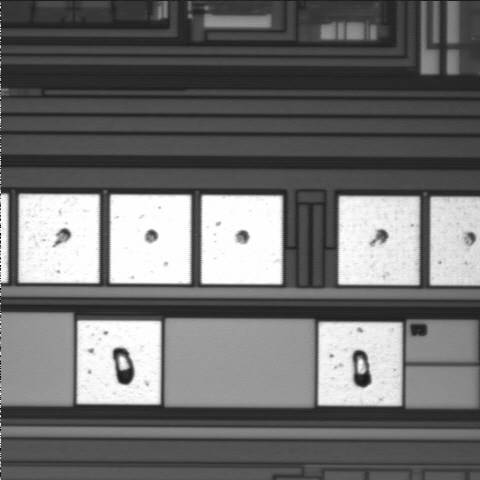pad: (19, 194, 100, 283), (110, 195, 191, 284), (201, 195, 282, 284), (339, 196, 419, 285), (77, 320, 161, 404), (318, 322, 402, 406)
